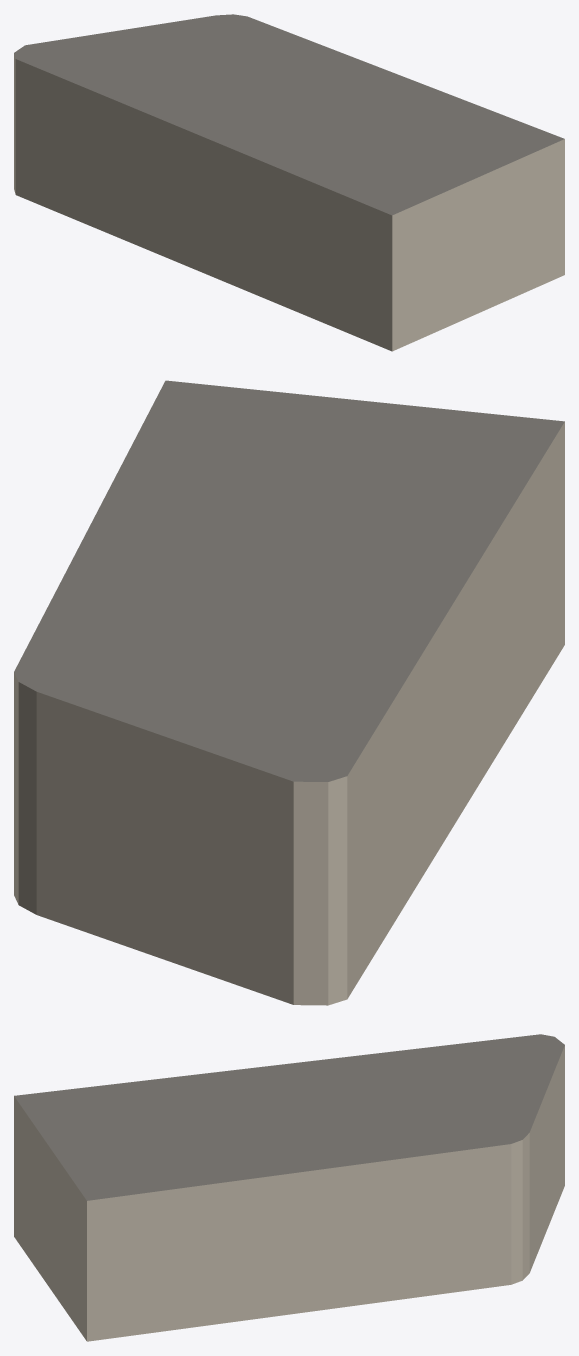
The picture shows the model from 3 angles, top to bottom: view 1: azimuth 30°, elevation 25°; view 2: azimuth 150°, elevation 25°; view 3: azimuth 270°, elevation 25°; orthographic projection. The views are drawn at different scales.
Parts seen in each view (by area): view 1: HP-w373833610; view 2: HP-w373833610; view 3: HP-w373833610.
Boxes of the visible parts, x1,y1,x2,y2 form: HP-w373833610: (14,14,564,351); HP-w373833610: (14,380,564,1005); HP-w373833610: (14,1034,564,1341).
Bounding box in the file's own units: 45.69 × 18 × 63.83.
